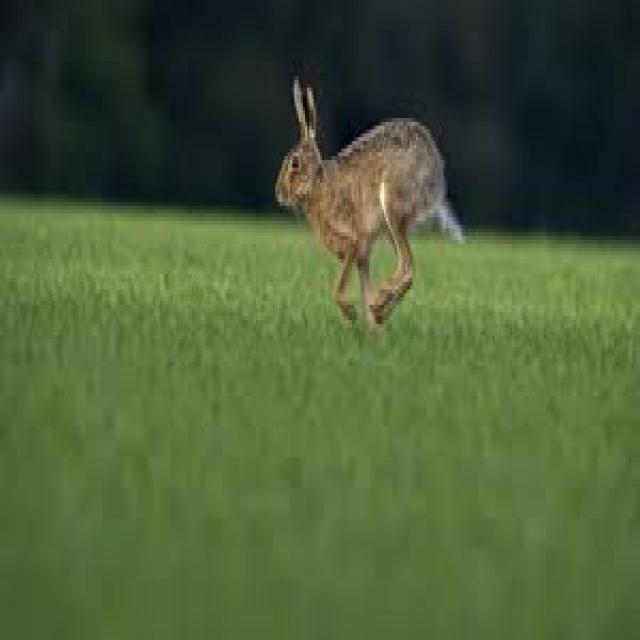Hare: (267, 69, 466, 346)
